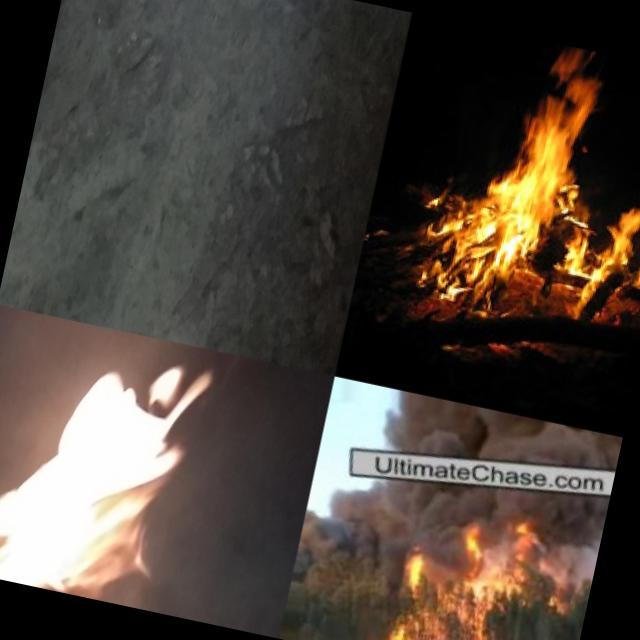fire: (406, 23, 640, 331), (0, 306, 227, 615), (446, 594, 504, 640), (453, 522, 493, 578), (502, 523, 538, 585), (397, 544, 429, 596), (370, 619, 432, 640), (294, 628, 339, 640)
smoke: (316, 472, 468, 558), (530, 494, 608, 590)
